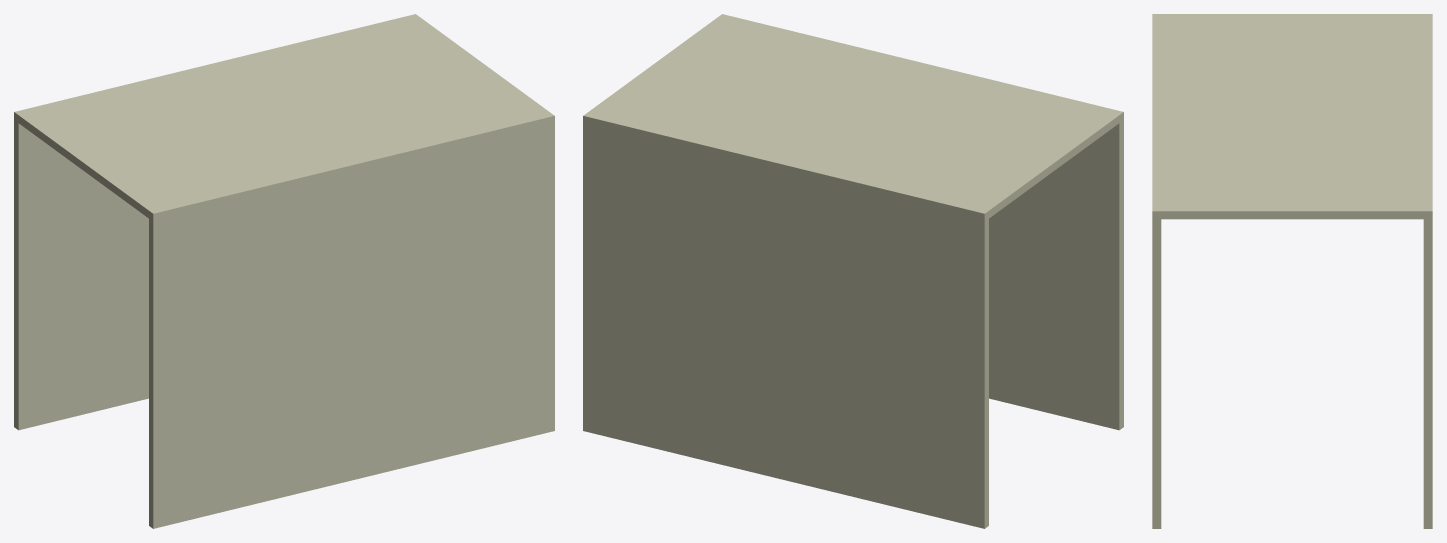
File: TestGltf.gltf
The picture shows the model from 3 angles, left to right: view 1: azimuth 30°, elevation 25°; view 2: azimuth 150°, elevation 25°; view 3: azimuth 270°, elevation 25°; orthographic projection.
Parts seen in each view (by area): view 1: {62F24D97-8858-4a6c-8A58-306D9431A2F1}_Node, {8D0108A0-2107-4c33-91B0-5D1DAF0C9AFF}_Node, {C7DDFE76-3372-4cf0-B47E-87EDF137799E}_Node; view 2: {C7DDFE76-3372-4cf0-B47E-87EDF137799E}_Node, {8D0108A0-2107-4c33-91B0-5D1DAF0C9AFF}_Node, {62F24D97-8858-4a6c-8A58-306D9431A2F1}_Node; view 3: {8D0108A0-2107-4c33-91B0-5D1DAF0C9AFF}_Node, {62F24D97-8858-4a6c-8A58-306D9431A2F1}_Node, {C7DDFE76-3372-4cf0-B47E-87EDF137799E}_Node.
Part boxes in pixels (x1=…): {62F24D97-8858-4a6c-8A58-306D9431A2F1}_Node: x1=149, y1=112, x2=554, y2=528; {8D0108A0-2107-4c33-91B0-5D1DAF0C9AFF}_Node: x1=18, y1=17, x2=549, y2=218; {C7DDFE76-3372-4cf0-B47E-87EDF137799E}_Node: x1=14, y1=14, x2=419, y2=430; {C7DDFE76-3372-4cf0-B47E-87EDF137799E}_Node: x1=583, y1=112, x2=988, y2=528; {8D0108A0-2107-4c33-91B0-5D1DAF0C9AFF}_Node: x1=588, y1=17, x2=1119, y2=218; {62F24D97-8858-4a6c-8A58-306D9431A2F1}_Node: x1=718, y1=14, x2=1123, y2=430; {8D0108A0-2107-4c33-91B0-5D1DAF0C9AFF}_Node: x1=1161, y1=14, x2=1423, y2=219; {62F24D97-8858-4a6c-8A58-306D9431A2F1}_Node: x1=1152, y1=14, x2=1161, y2=528; {C7DDFE76-3372-4cf0-B47E-87EDF137799E}_Node: x1=1423, y1=14, x2=1432, y2=528.
Bounding box in the file's own units: 1 × 0.75 × 0.6.
